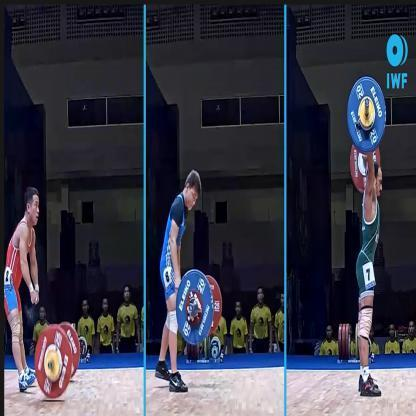barbell: (346, 76, 388, 193), (175, 269, 224, 347), (34, 323, 82, 400)
